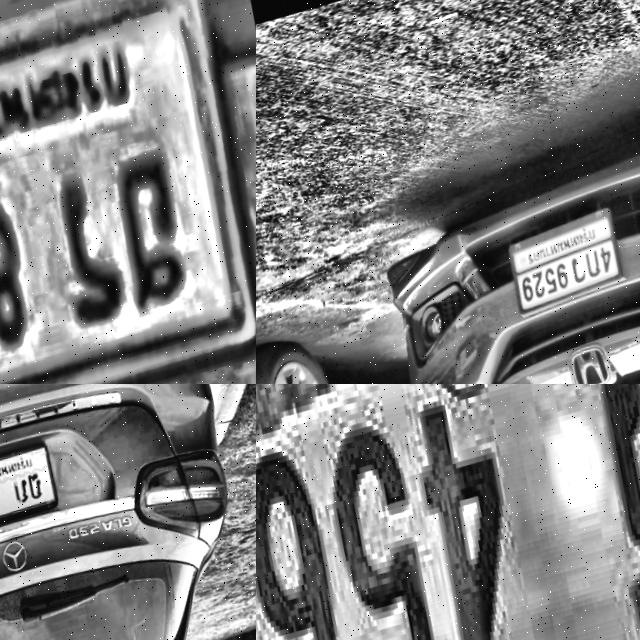license-plate: (0, 0, 256, 384), (256, 384, 640, 640), (502, 206, 634, 327), (0, 445, 63, 543)
